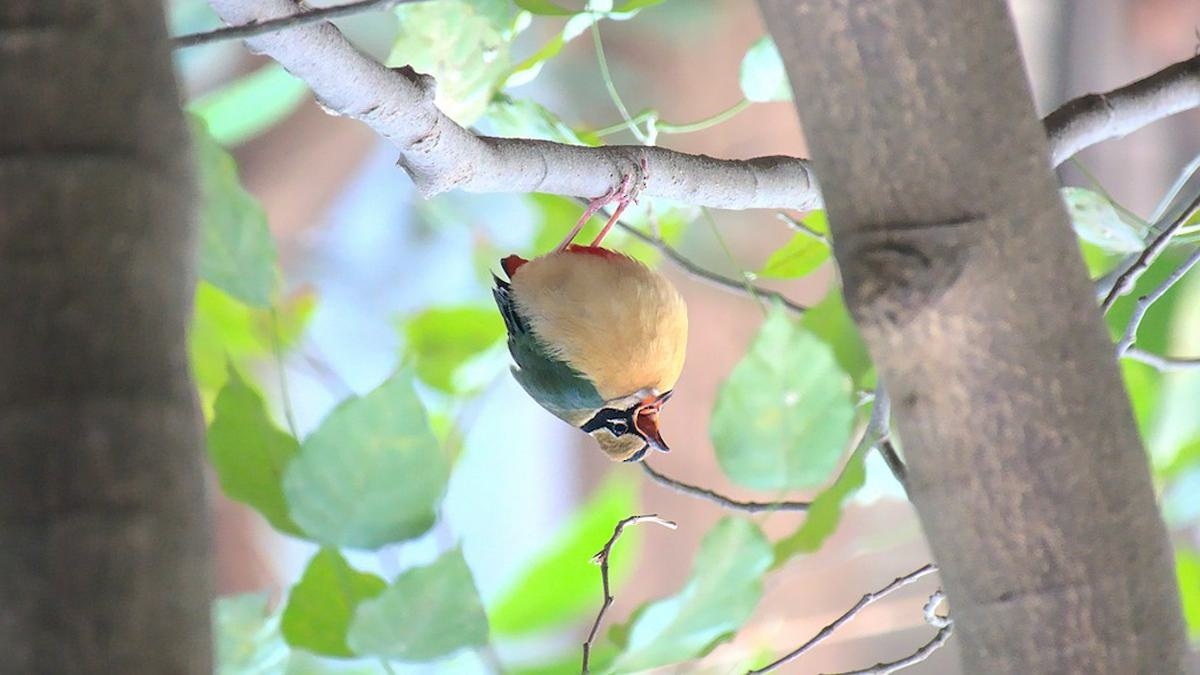pitta: (488, 74, 713, 492)
